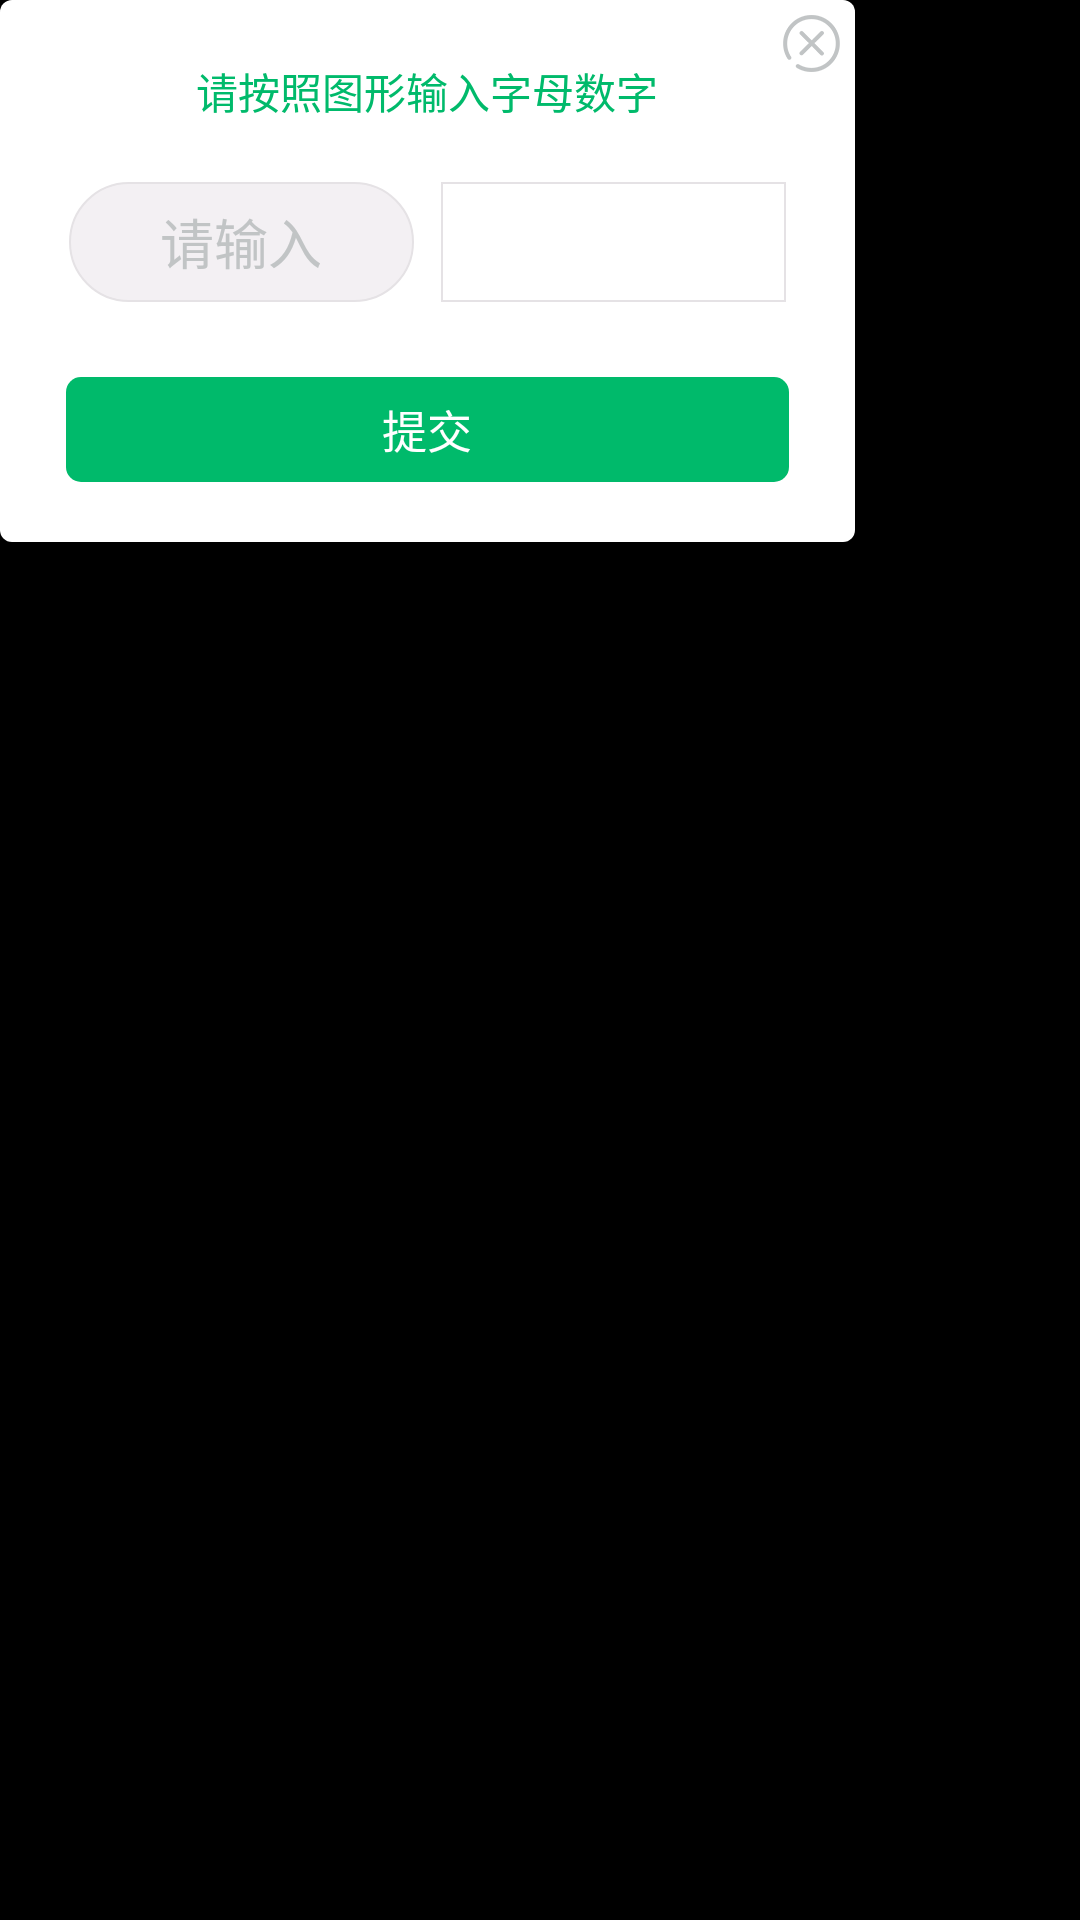

Named icons in this screenshot (1080x1920) and their bounding boxes, (x1, y1, x2, y2):
close dialog: (783, 15, 840, 72)
